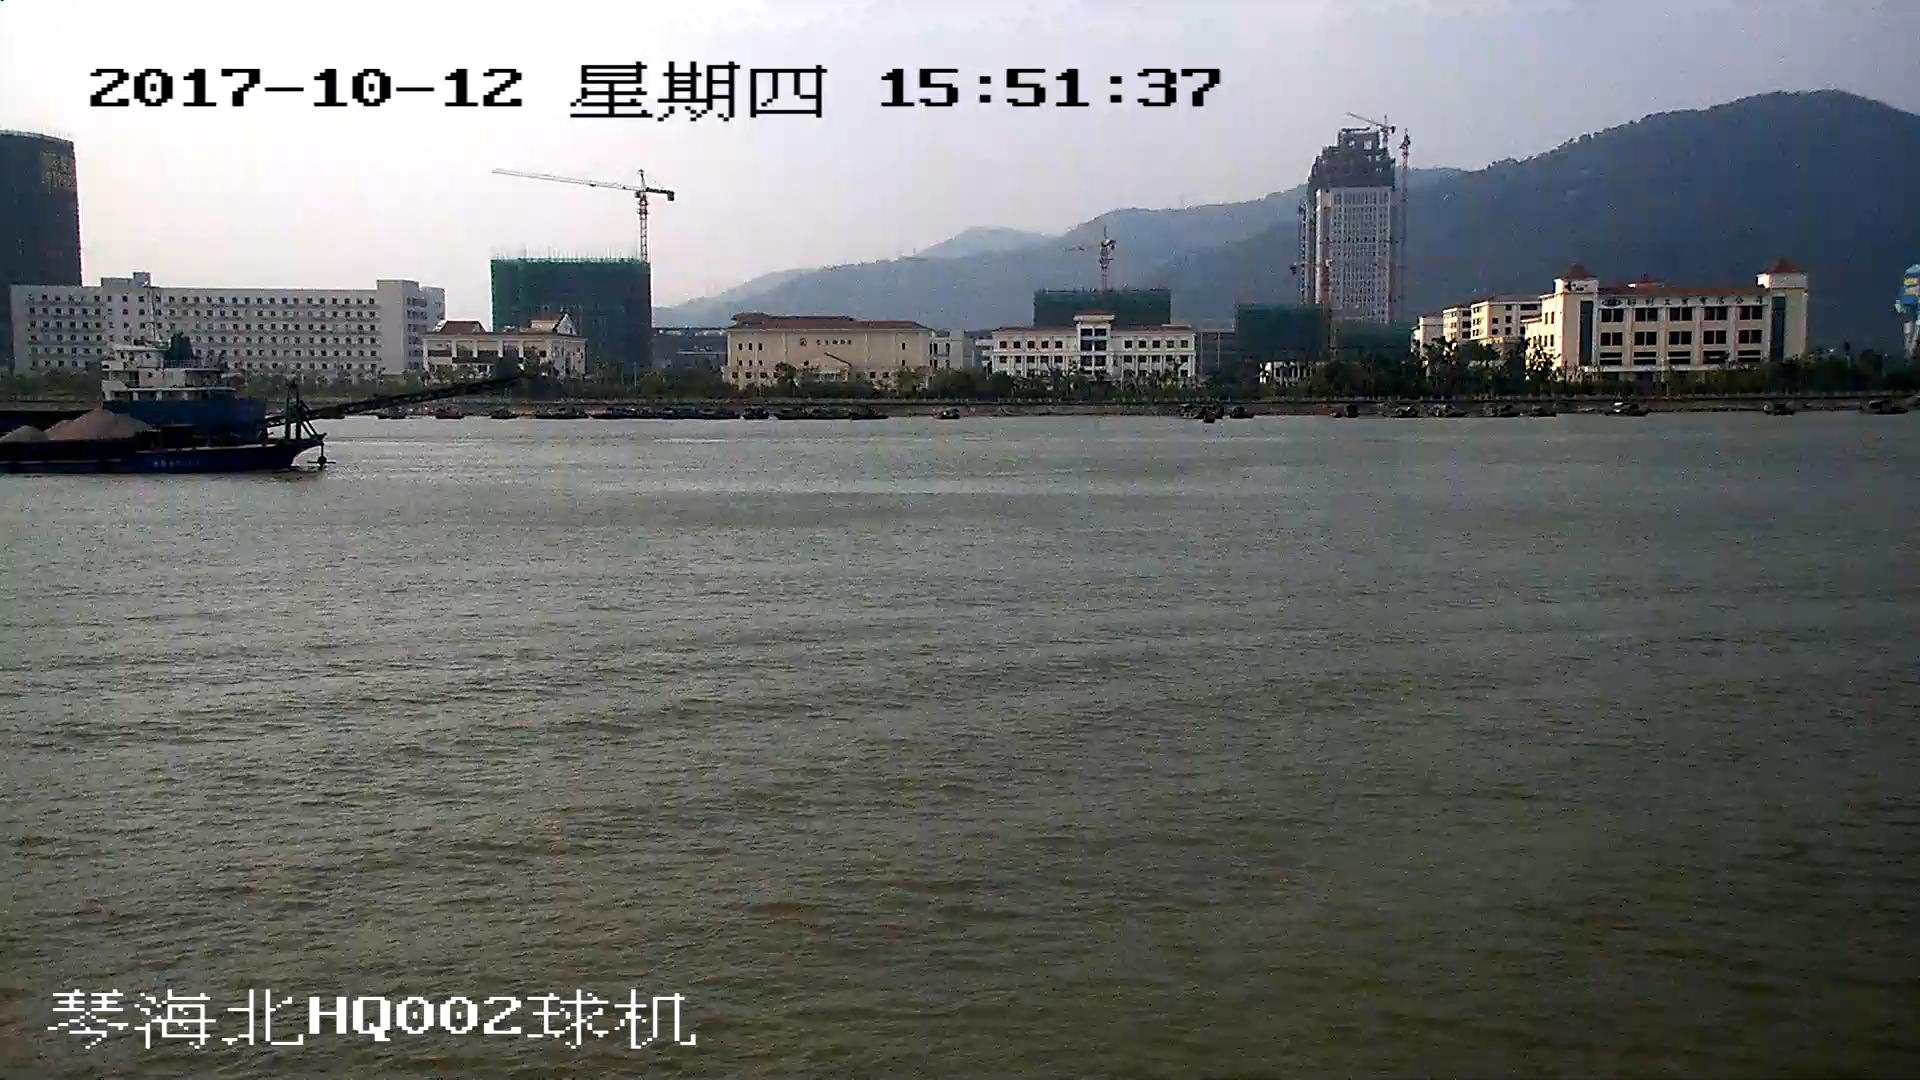ore carrier: (1, 381, 507, 470)
